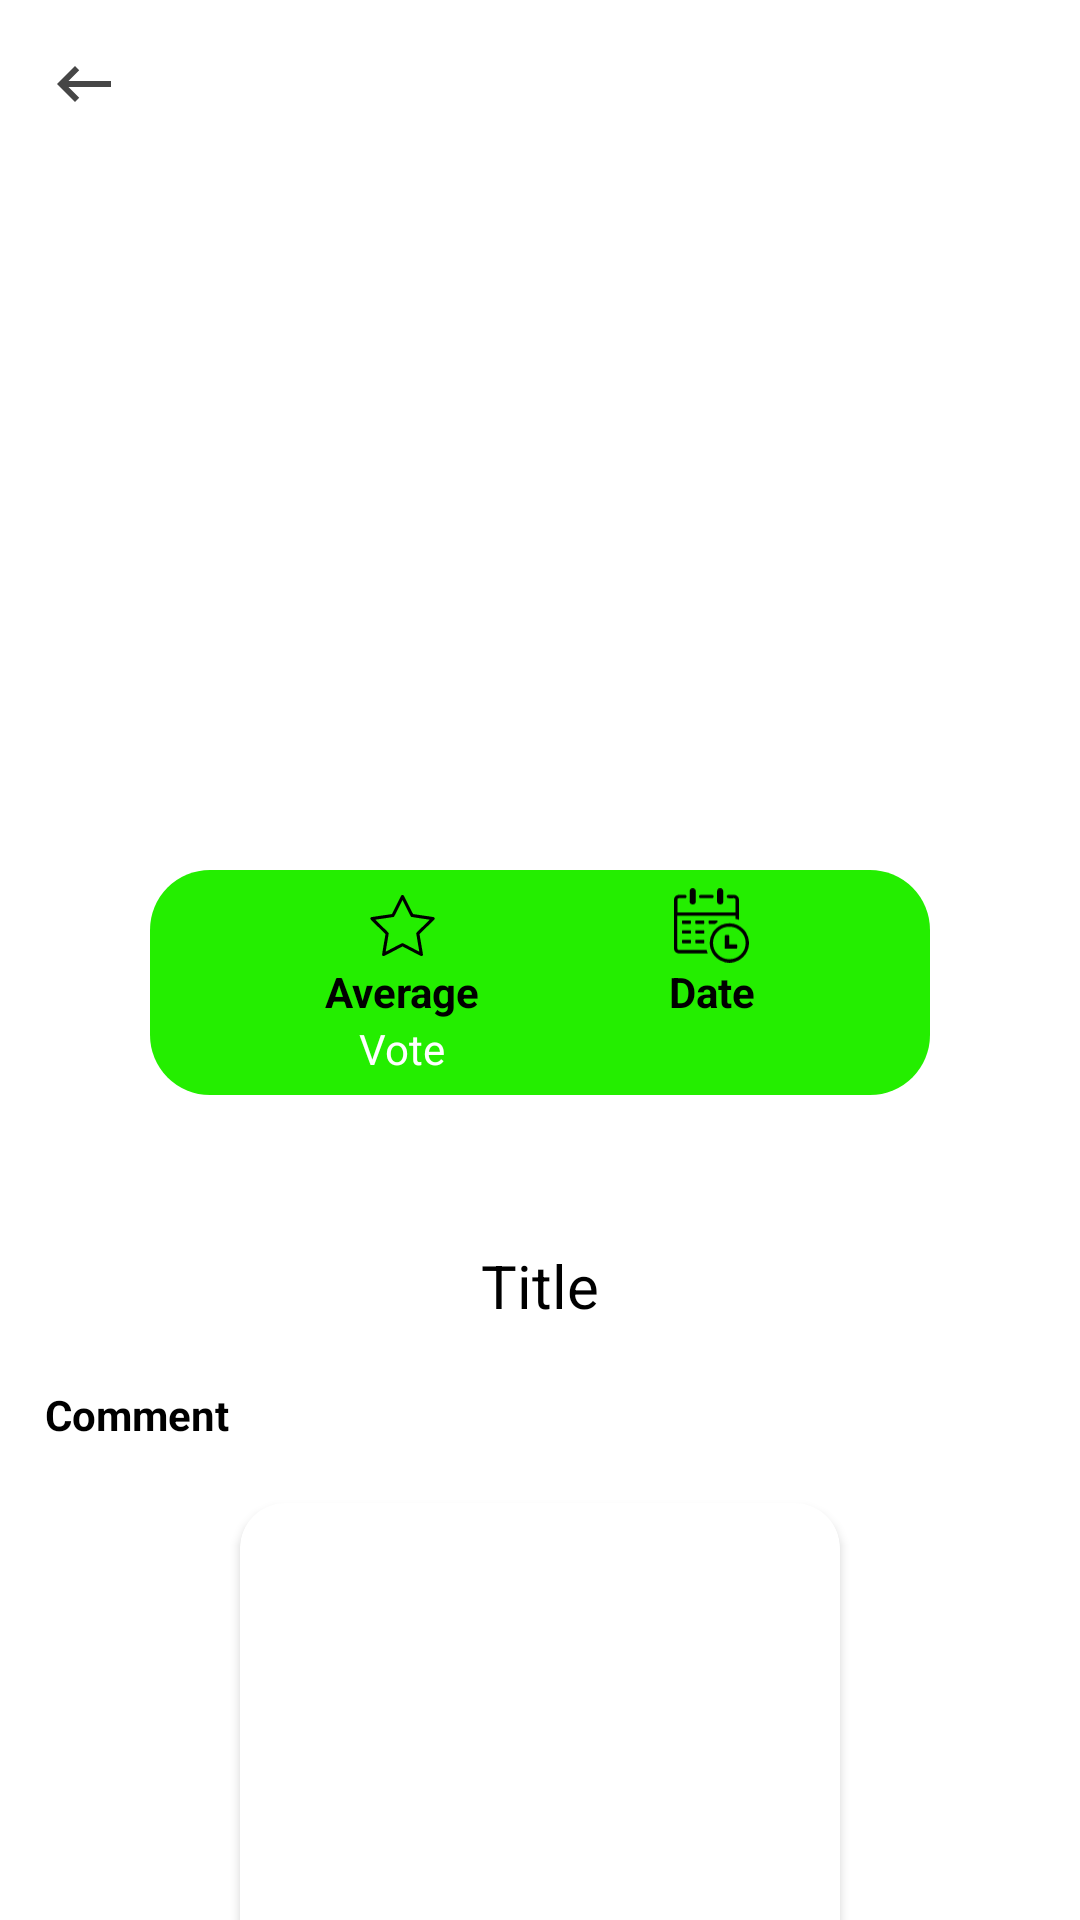

Locate icon controls on the screen. Image size 1080 × 1920, boxes as (x1, y1, x2, y2).
back: (57, 66, 111, 102)
star: (370, 895, 435, 956)
